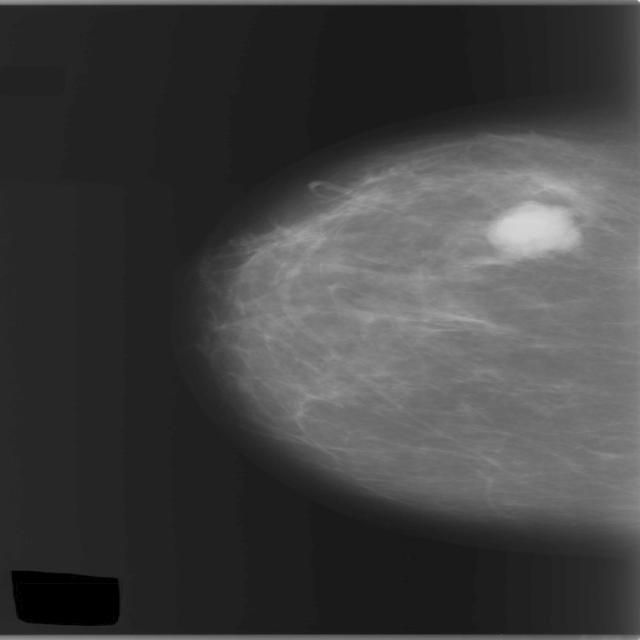tumour: (486, 200, 580, 257)
